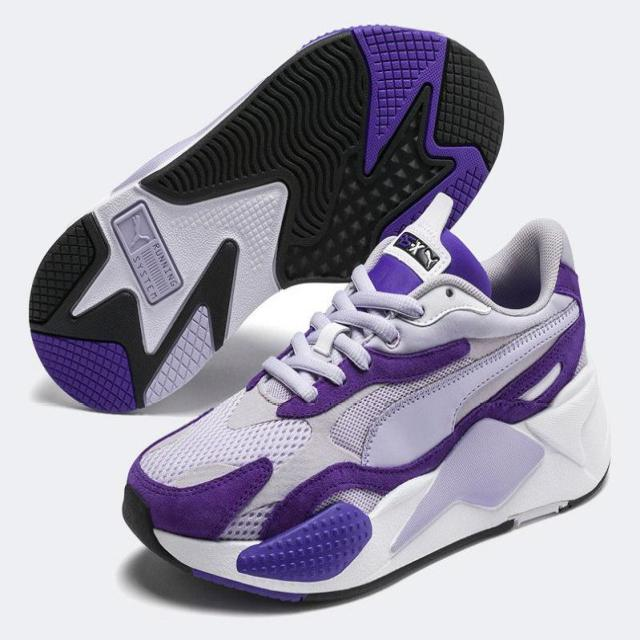shoe: (112, 179, 618, 614), (22, 8, 511, 430)
